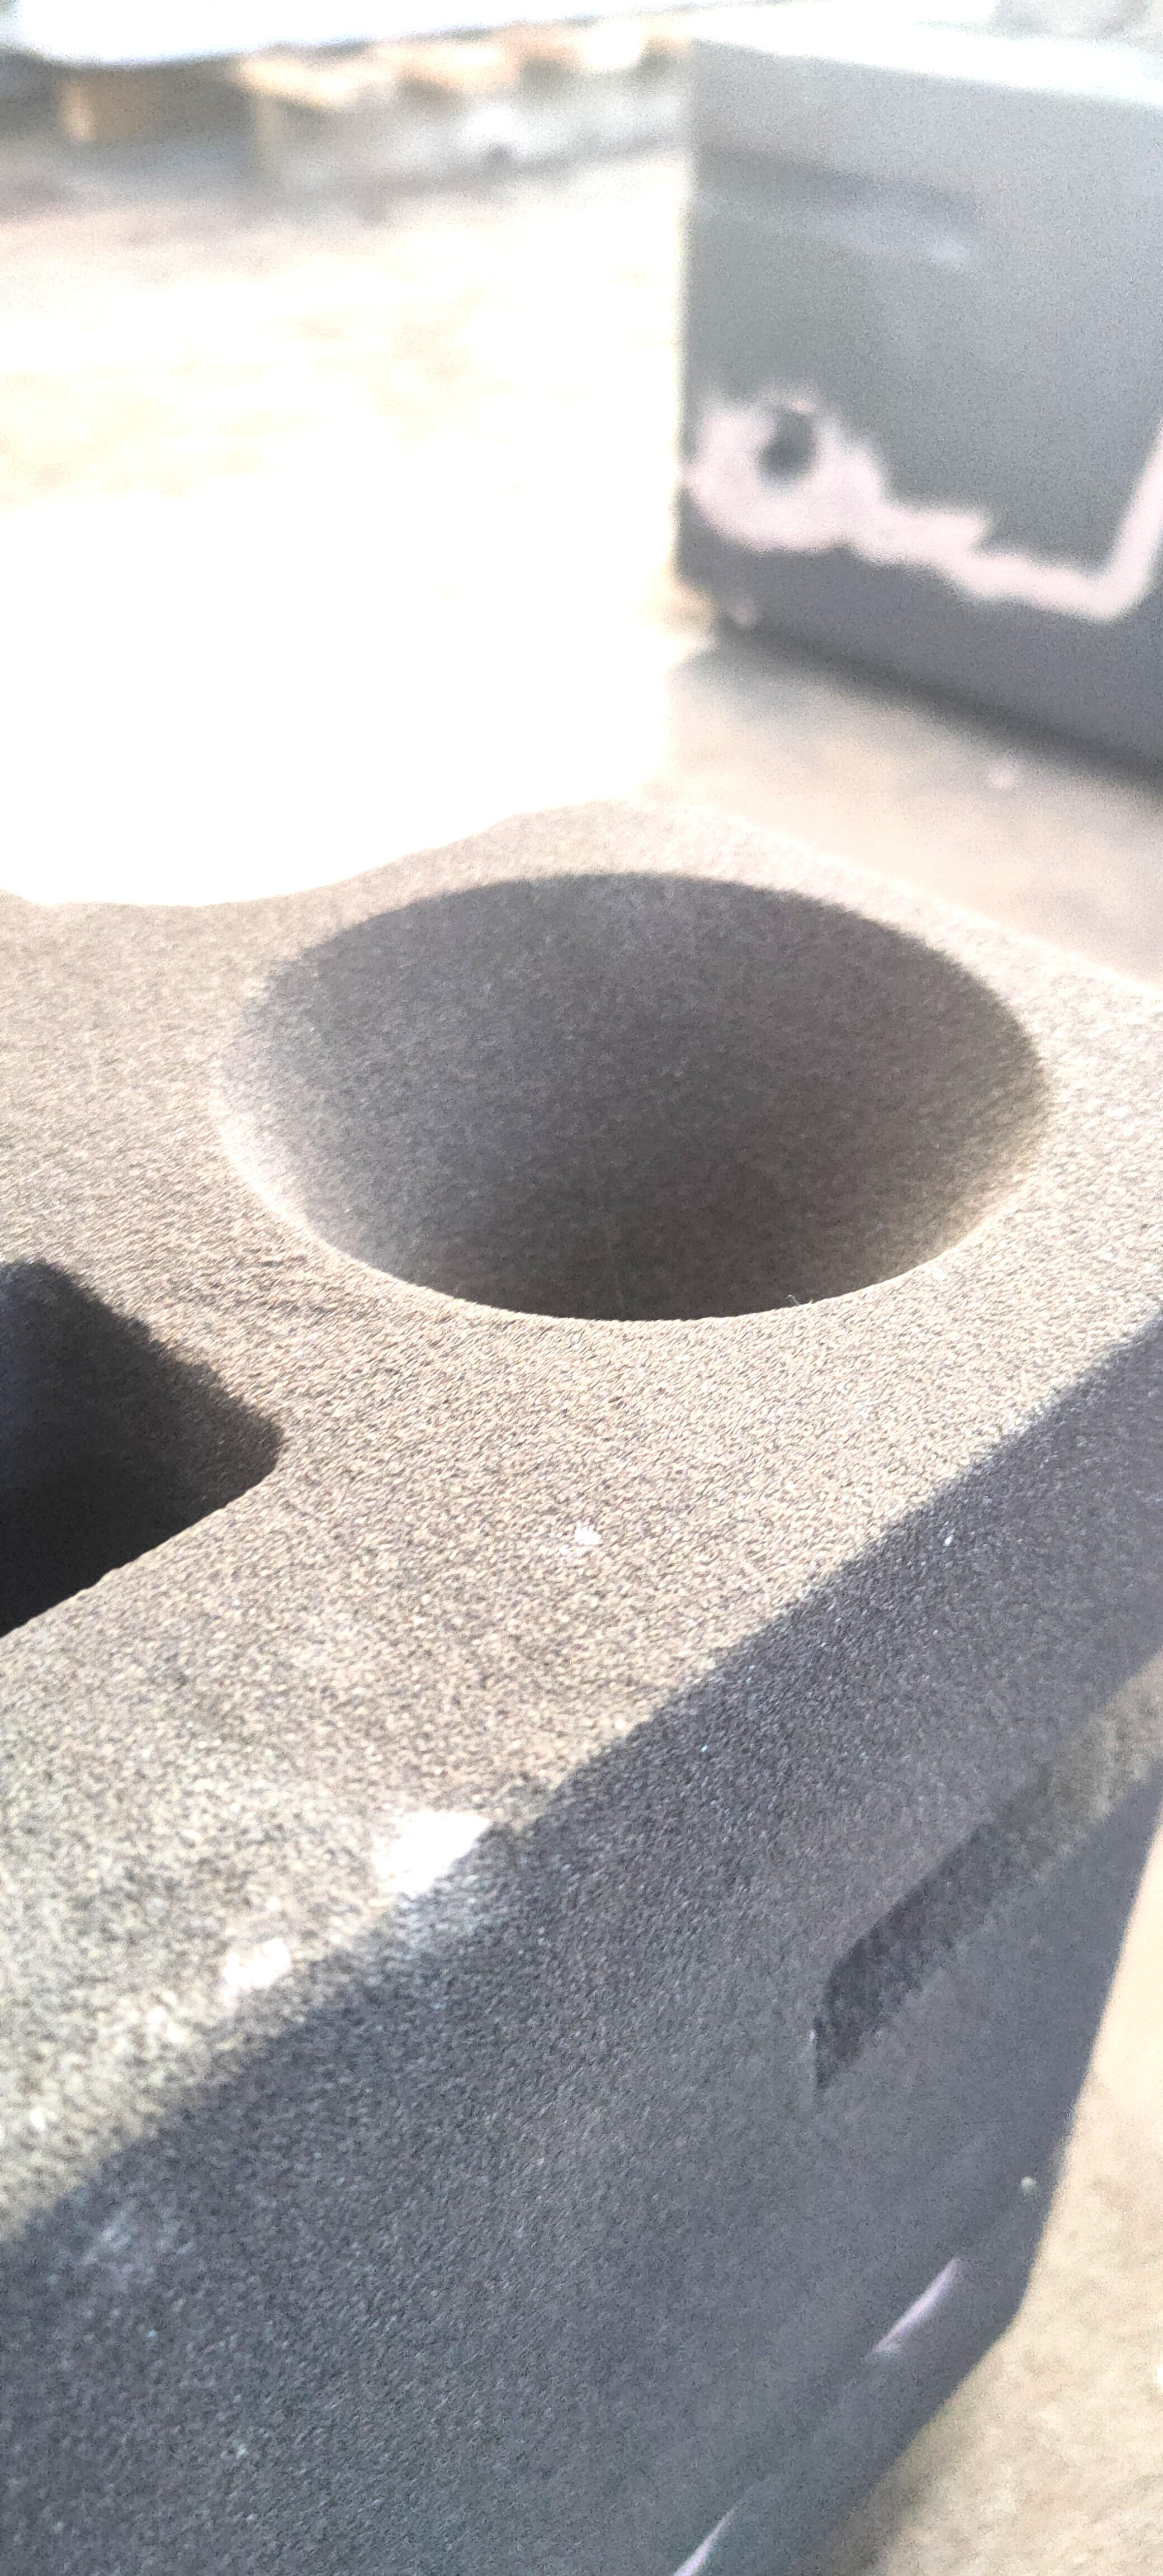pouring hole: (205, 856, 1069, 1321)
